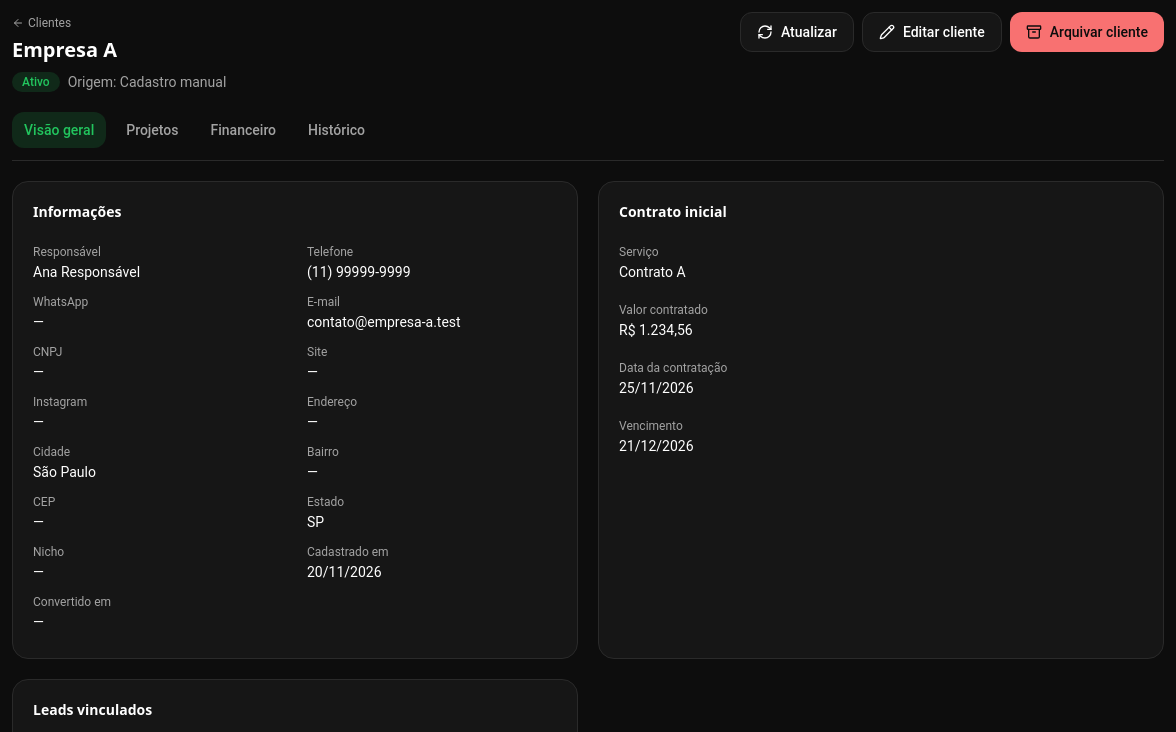
Scenario: ClientDetailPage › desempata contratos pela id crescente quando as datas são iguais
Expected: the heading "Empresa A" is shown, [12, 36, 117, 63]
Click the tab "Financeiro".
click(243, 130)  # box [198, 112, 288, 148]
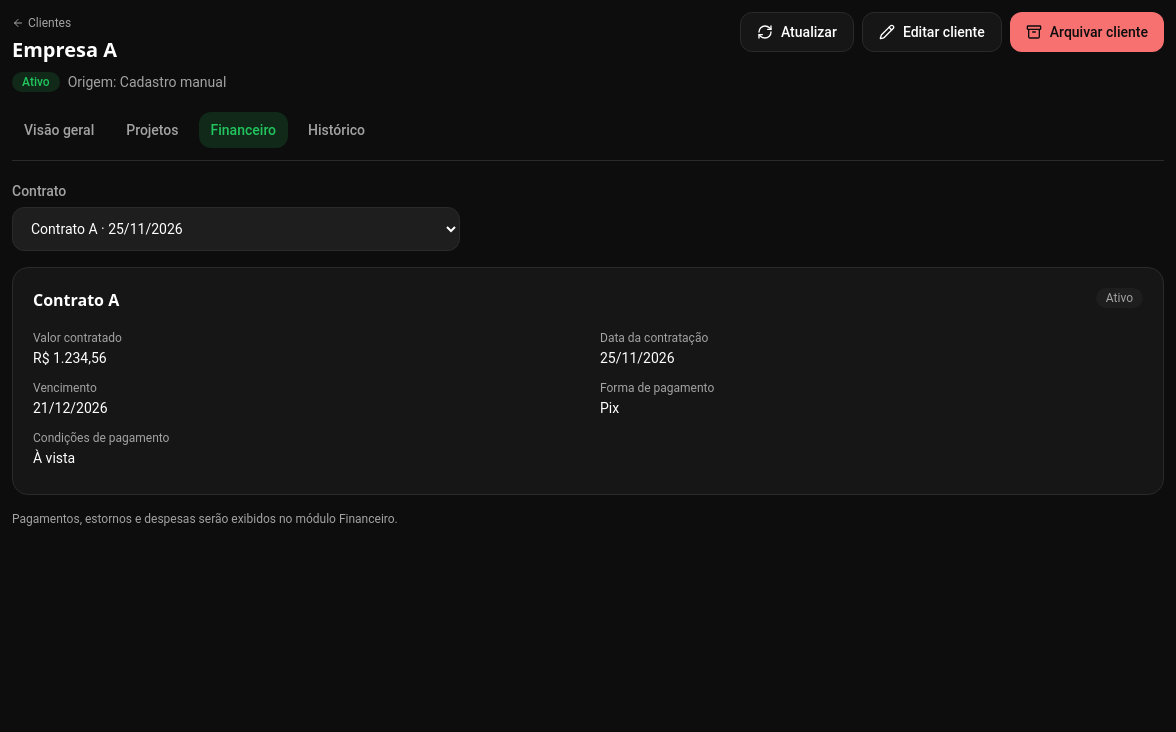
Expected: the dropdown labelled "Contrato" shows "Contrato A · 25/11/2026", [12, 207, 460, 251]
